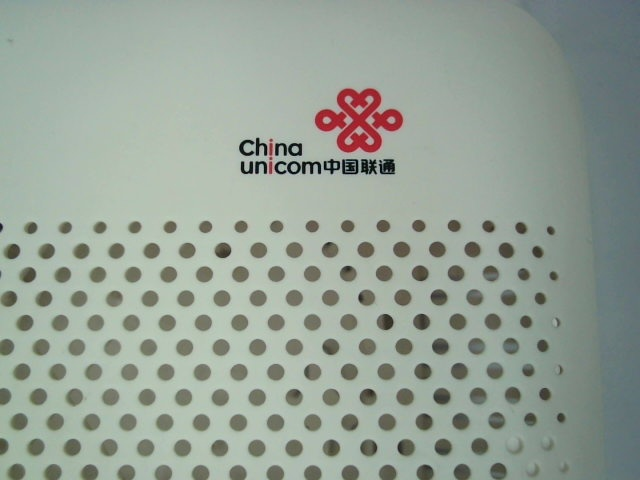AC_ChinaUnicom: (232, 79, 412, 186)
